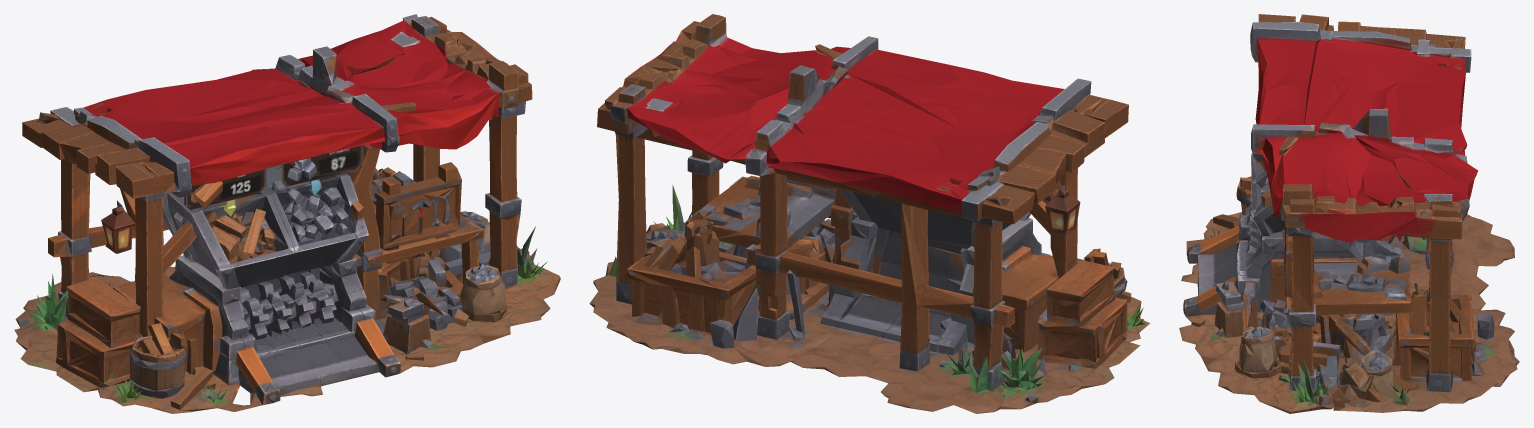
The model's file is Meshy_AI_Timber_and_Iron_Works_1009162435_texture.glb.
3 views of the same model, side by side, from view 1: azimuth 30°, elevation 25°; view 2: azimuth 150°, elevation 25°; view 3: azimuth 270°, elevation 25° (orthographic). The views are drawn at different scales.
Parts seen in each view (by area): view 1: output_unwrapped; view 2: output_unwrapped; view 3: output_unwrapped.
Boxes of the visible parts, x1,y1,x2,y2 form: output_unwrapped: [14, 14, 560, 413]; output_unwrapped: [589, 14, 1150, 413]; output_unwrapped: [1179, 14, 1519, 413].
Size of the model in its own units: 1.9 by 0.8755 by 1.24.
Materials: 1 (1 with a texture image).
